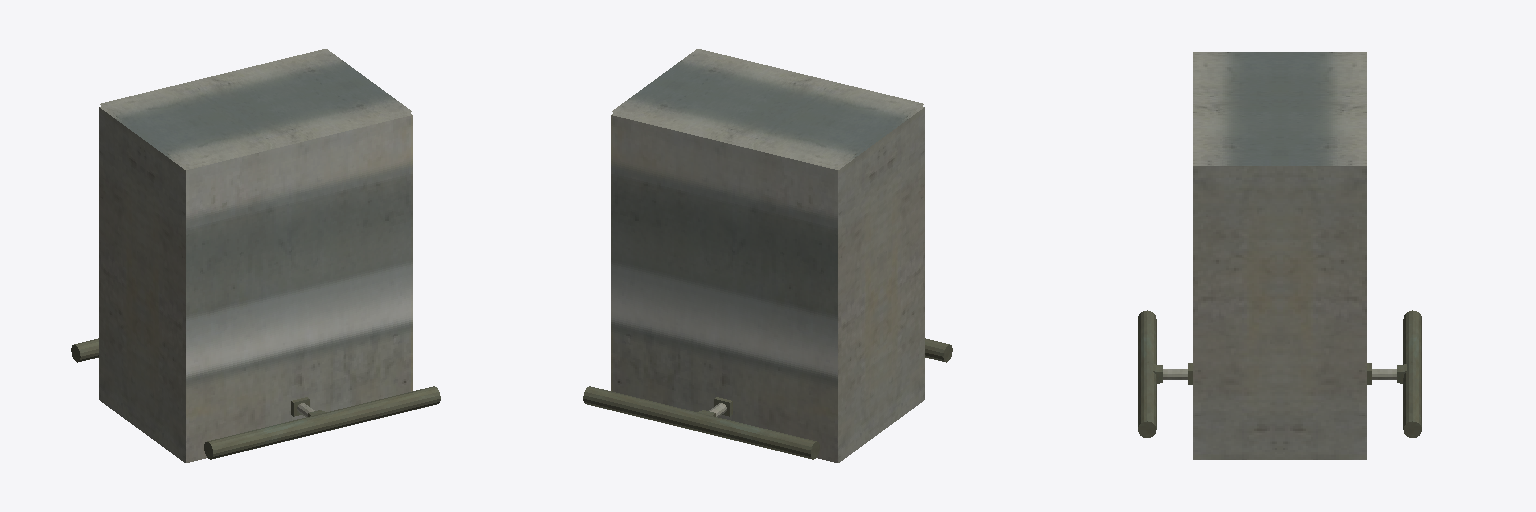
3 views of the same model, side by side, from view 1: azimuth 30°, elevation 25°; view 2: azimuth 150°, elevation 25°; view 3: azimuth 270°, elevation 25° (orthographic).
Parts seen in each view (by area): view 1: RAIL_BASE_Cube, RAIL_LEFT_Cylinder.003, RAIL_RIGHT_Cylinder.002, RAIL_BASE.002_Cube.002; view 2: RAIL_BASE_Cube, RAIL_RIGHT_Cylinder.002, RAIL_LEFT_Cylinder.003; view 3: RAIL_BASE_Cube, RAIL_LEFT_Cylinder.003, RAIL_RIGHT_Cylinder.002.
Boxes of the visible parts, box(x1,y1,x2,y2) form: RAIL_BASE_Cube: box(99, 106, 412, 462); RAIL_LEFT_Cylinder.003: box(143, 80, 440, 459); RAIL_RIGHT_Cylinder.002: box(71, 49, 368, 362); RAIL_BASE.002_Cube.002: box(143, 113, 411, 169); RAIL_BASE_Cube: box(611, 107, 924, 462); RAIL_RIGHT_Cylinder.002: box(583, 80, 880, 459); RAIL_LEFT_Cylinder.003: box(655, 49, 952, 362); RAIL_BASE_Cube: box(1193, 163, 1366, 459); RAIL_LEFT_Cylinder.003: box(1138, 52, 1279, 437); RAIL_RIGHT_Cylinder.002: box(1280, 52, 1421, 437).
Size of the model in its own units: 1 by 1.24 by 1.08.
2 materials, 1 textured.